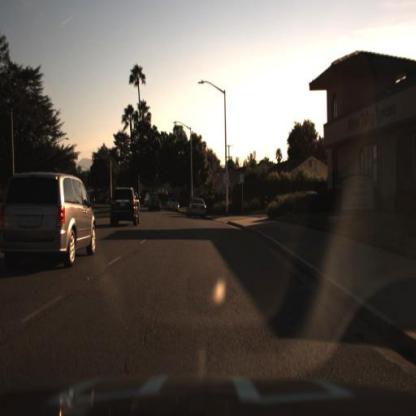car: (1, 162, 100, 288), (103, 184, 140, 238), (185, 194, 210, 223), (148, 193, 163, 214), (167, 195, 181, 216), (148, 196, 163, 212)
